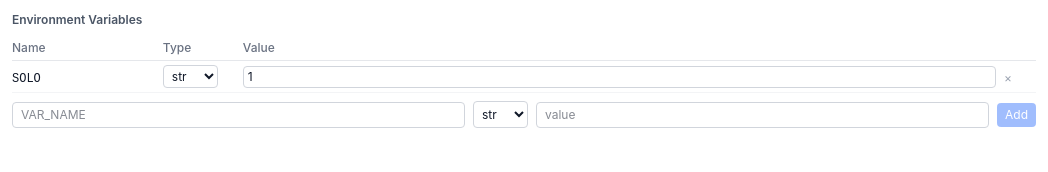
it: EnvVarEditor › deleting a variable › shows empty message after deleting last variable
Click the button with test id "env-var-delete-SOLO": (1008, 78) x1=1004 y1=72 x2=1012 y2=84
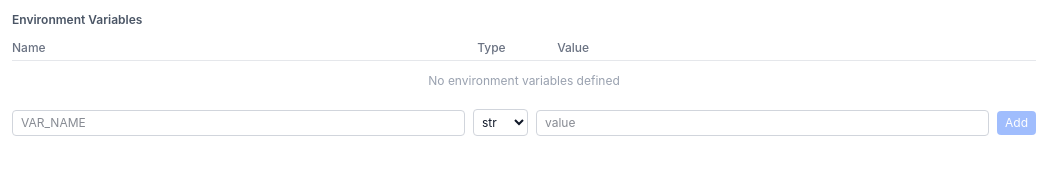
Now the text "No environment variables defined" is shown, box x1=12 y1=60 x2=1036 y2=101
